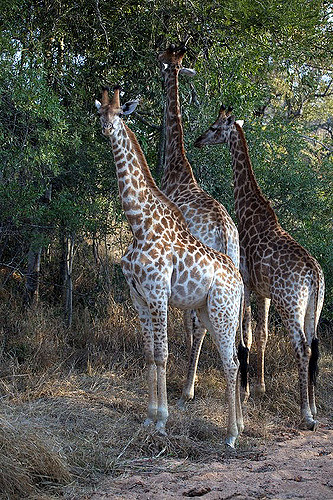giraffe: (83, 90, 254, 438), (200, 113, 324, 443), (143, 36, 233, 269)
